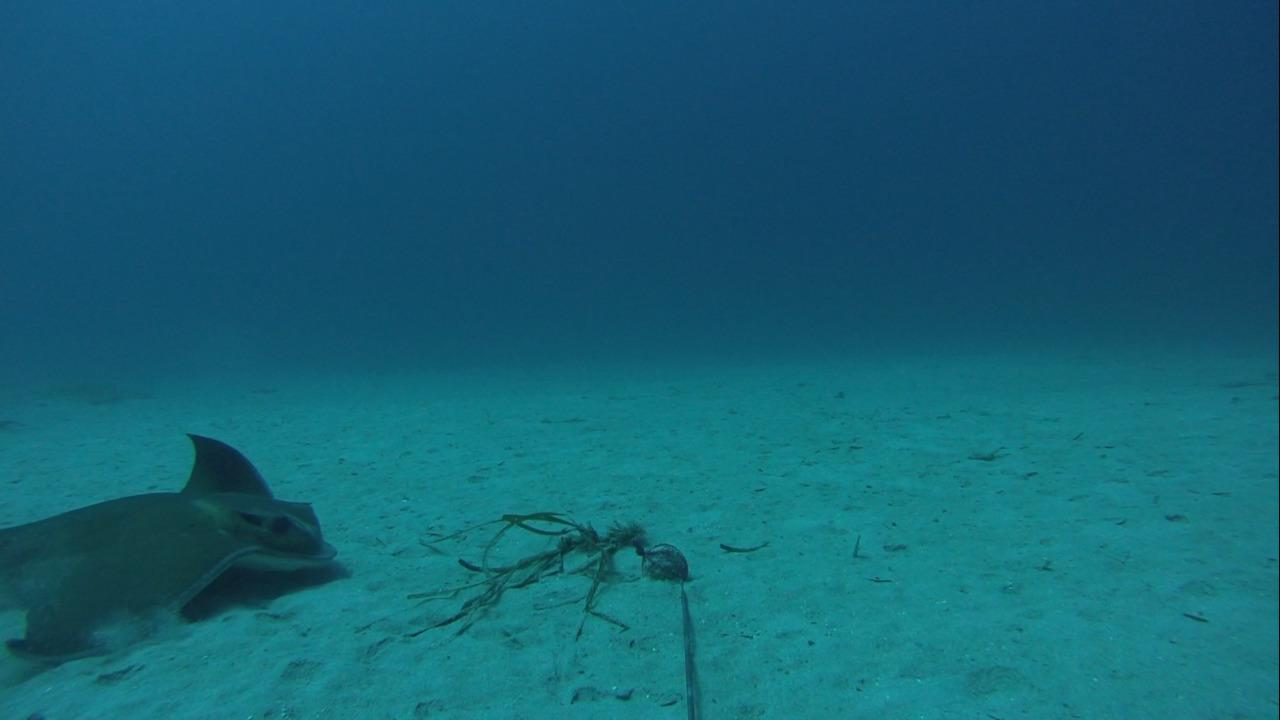myliobatis: (11, 426, 340, 678)
